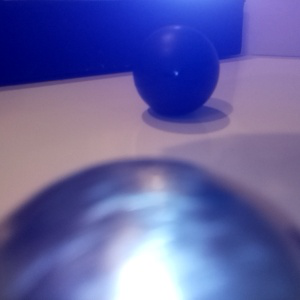alive_ball: (1, 156, 300, 300)
dead_ball: (131, 24, 221, 116)
